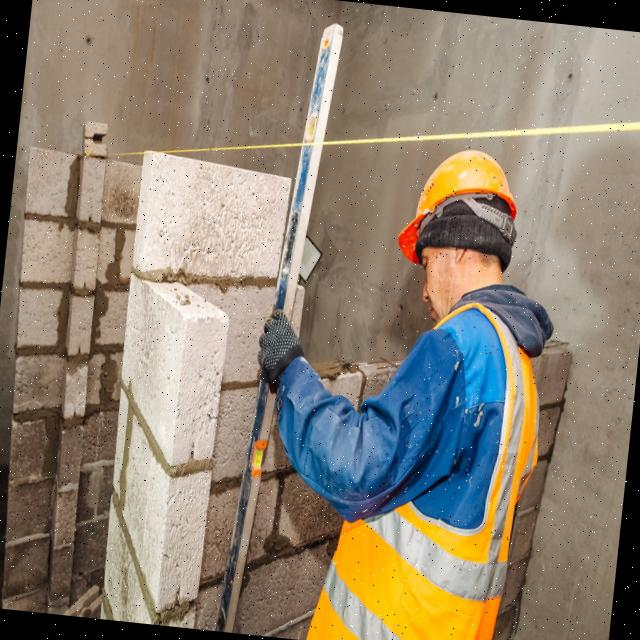Helmet: (396, 144, 525, 274)
Jacket: (363, 298, 538, 640)
